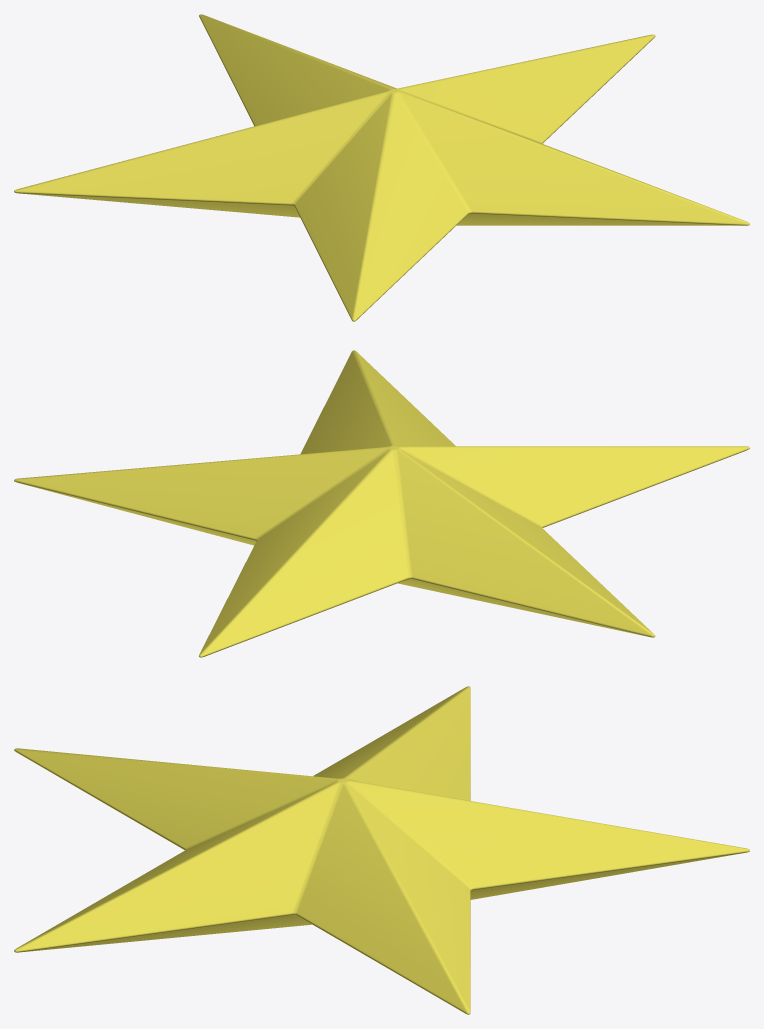
File: star.dae
3 views of the same model, one above another, from view 1: azimuth 30°, elevation 25°; view 2: azimuth 150°, elevation 25°; view 3: azimuth 270°, elevation 25° (orthographic). The views are drawn at different scales.
Visible parts, largest first — view 1: Cube; view 2: Cube; view 3: Cube.
Boxes of the visible parts, bbox=[...] form: Cube: bbox=[14, 14, 749, 321]; Cube: bbox=[14, 350, 749, 657]; Cube: bbox=[14, 686, 749, 1014].
Bounding box in the file's own units: 3.12 × 2.97 × 0.6219.
